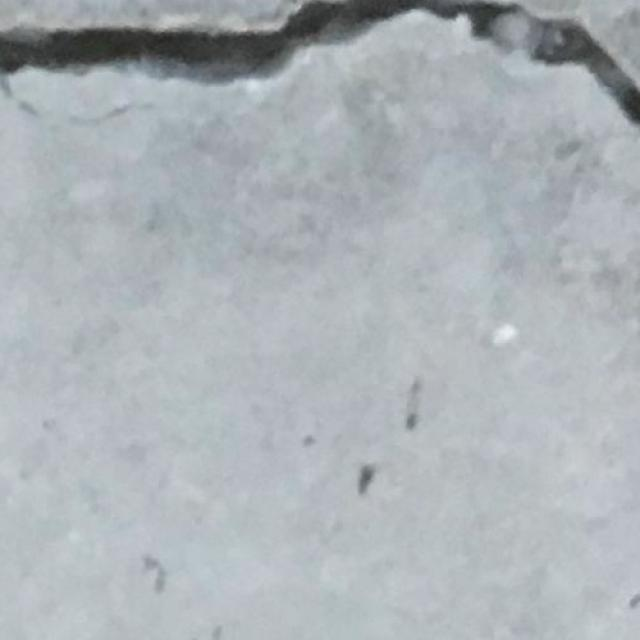horizontal crack: (4, 0, 640, 161)
